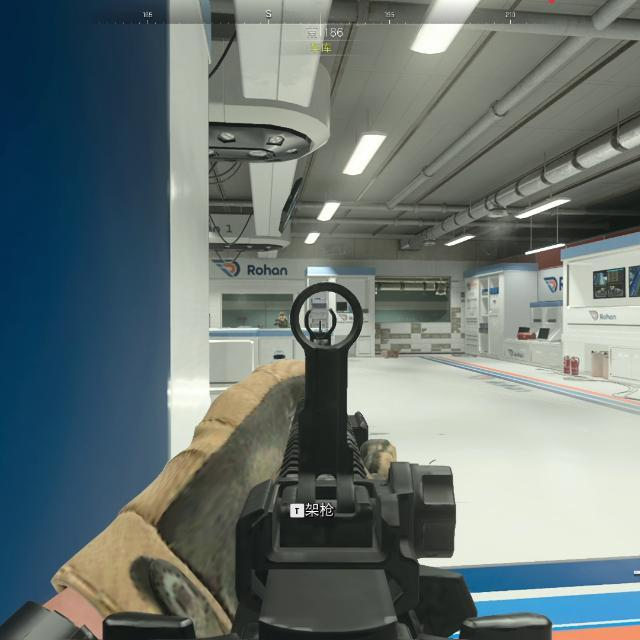MW2_body: (273, 312, 289, 330)
